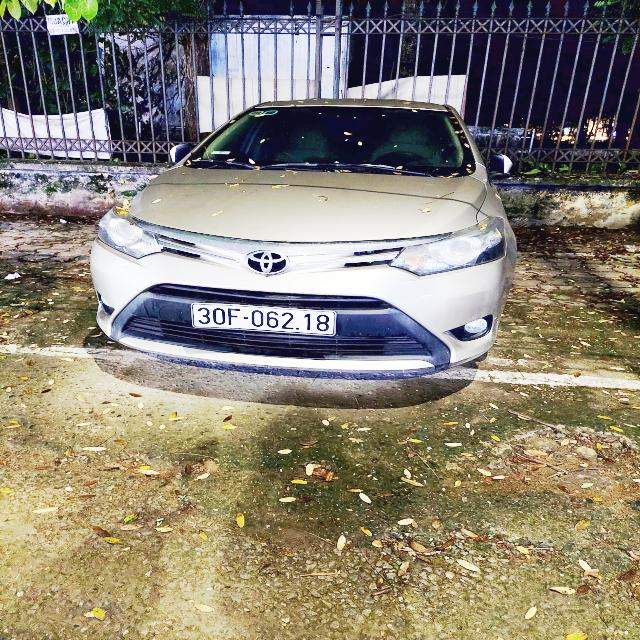license_plate: (188, 301, 340, 340)
